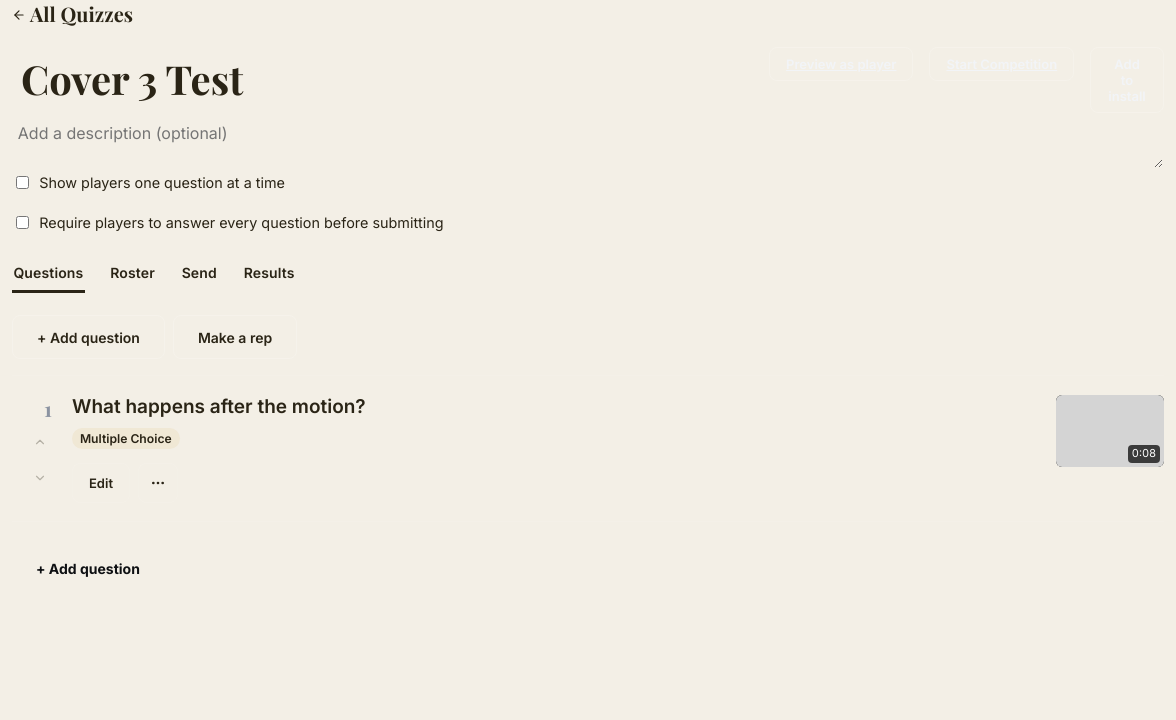
Test: the builder keeps its questions when the quiz is patched › still applies the change that was saved
Expected: the text "What happens after the motion?" is shown, [72,395,366,418]
Click the checkbox labelled "Show players one question at a time" at (22,182), box [16,176,29,189]
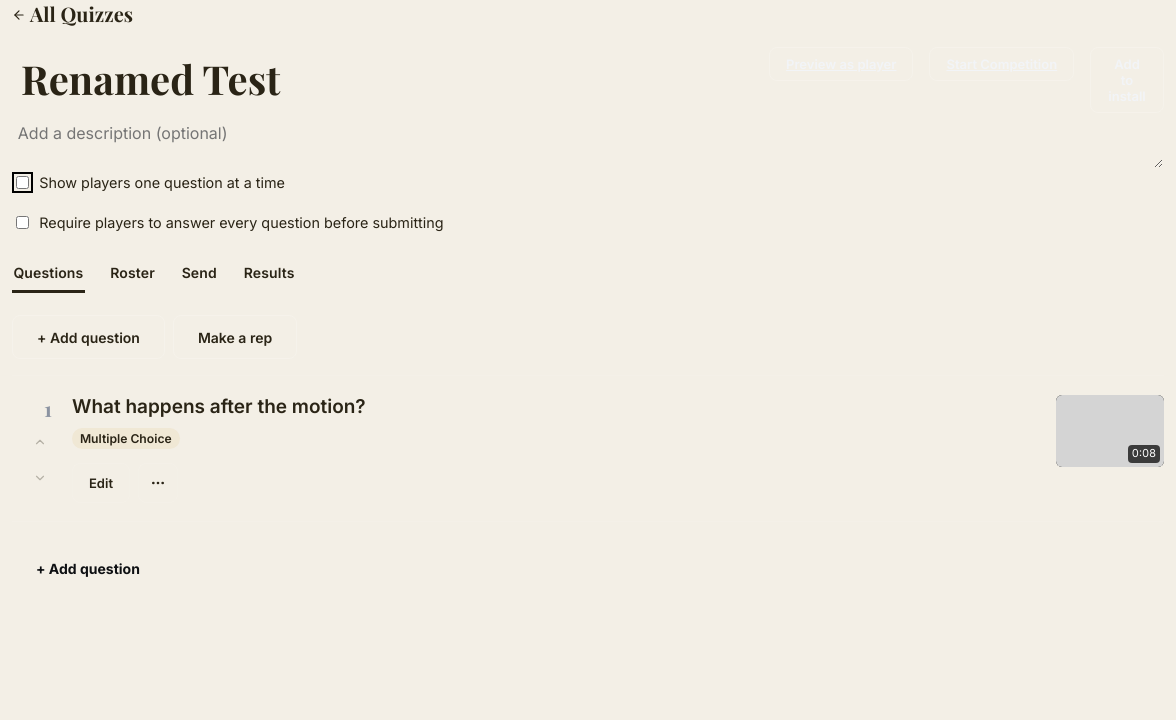
Expected: the text "What happens after the motion?" is shown, [72,395,366,418]
Now the field showing "Renamed Test" is shown, box [12,47,753,110]
